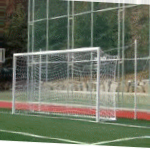goals: (7, 46, 118, 125)
